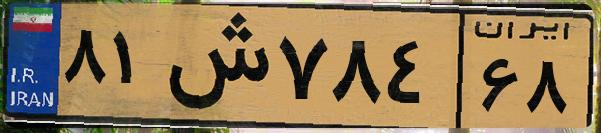1: (110, 28, 158, 98)
4: (385, 28, 445, 110)
6: (475, 38, 525, 113)
7: (270, 28, 330, 110)
8: (330, 28, 385, 110), (57, 26, 110, 100), (525, 38, 570, 115)
ش: (158, 12, 270, 120)
